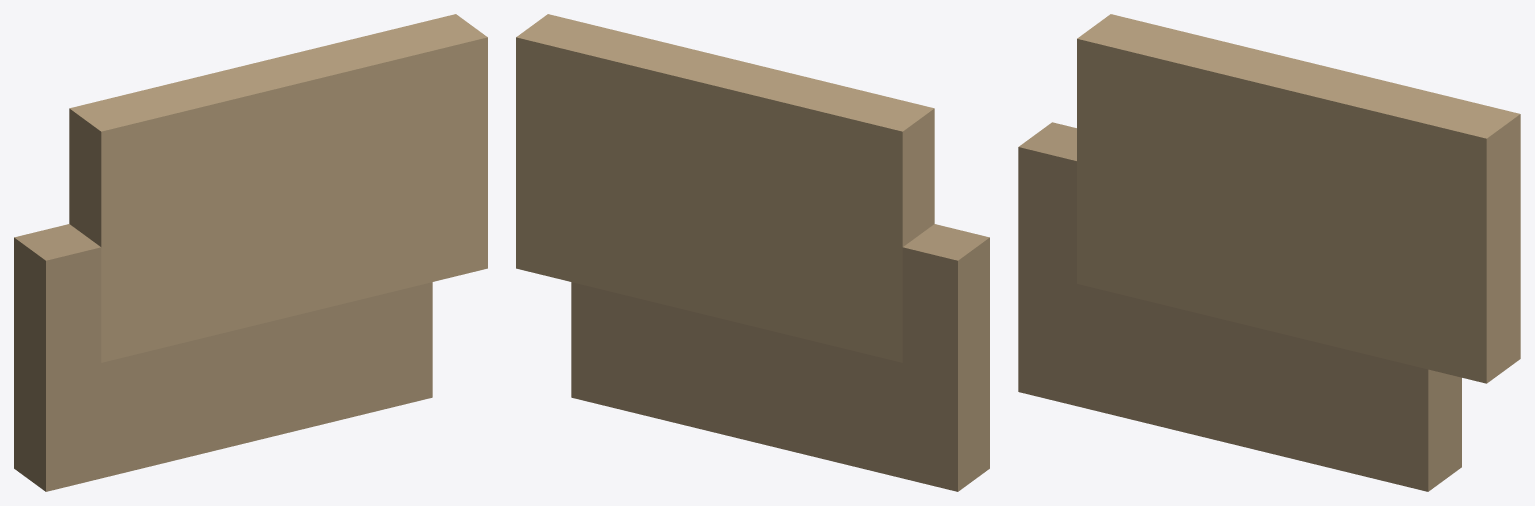
The model's file is artesonado_avellano_01.glb.
The picture shows the model from 3 angles, left to right: view 1: azimuth 30°, elevation 25°; view 2: azimuth 150°, elevation 25°; view 3: azimuth 330°, elevation 25°; orthographic projection. The views are drawn at different scales.
Visible parts, largest first — view 1: artesonado_avellano; view 2: artesonado_avellano; view 3: artesonado_avellano.
Boxes of the visible parts, x1=… form: artesonado_avellano: x1=14, y1=14, x2=487, y2=491; artesonado_avellano: x1=516, y1=14, x2=989, y2=491; artesonado_avellano: x1=1018, y1=14, x2=1520, y2=491.
Bounding box in the file's own units: 0.7273 × 0.5455 × 0.0909.
